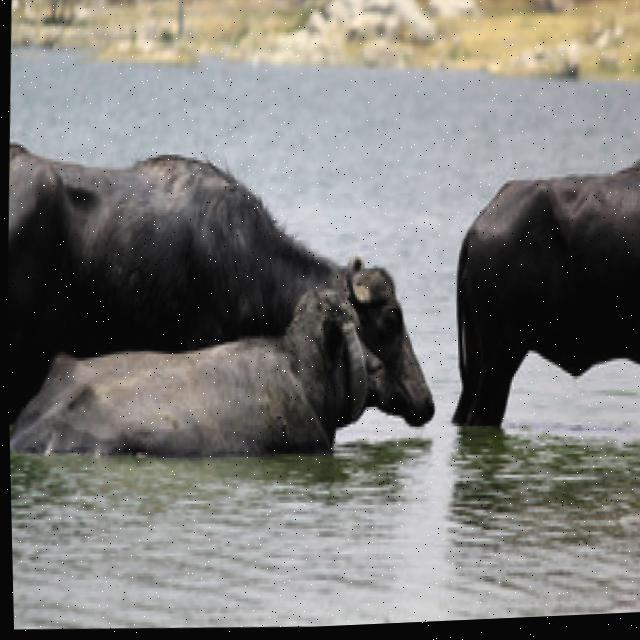Buffalo: (7, 290, 366, 523), (450, 155, 640, 455)
